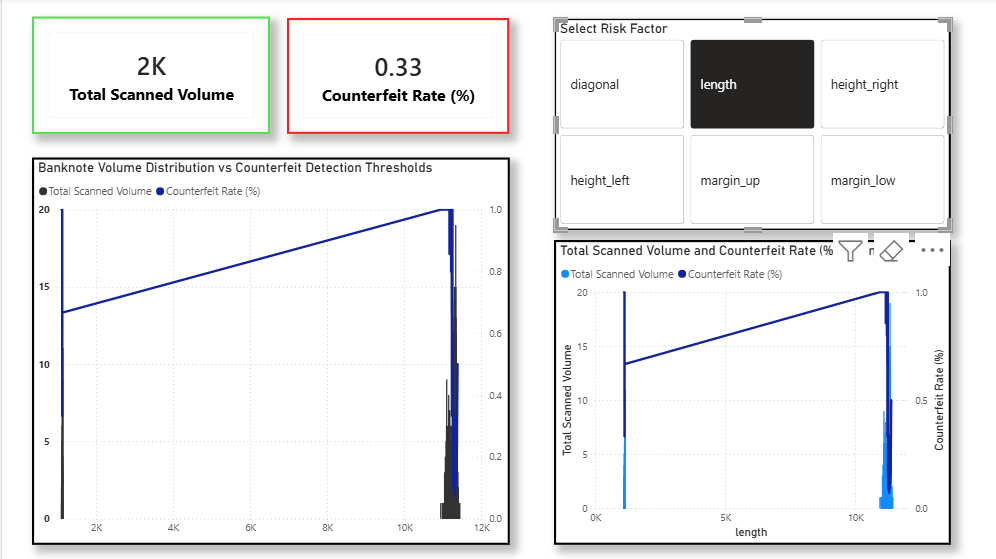

What the dashboard file says about the page in this screenshot:
{"tool":"powerbi","page":{"name":"Page 1","canvas":[1280,720],"ordinal":0},"visuals":[{"type":"lineClusteredColumnComboChart","title":"Banknote Volume Distribution vs Counterfeit Detection Thresholds","fields":{"Y":["Dim_Status.Total Scanned Volume"],"Y2":["Dim_Status.Counterfeit Rate (%)"],"Category":["Fact_Scanned_Bills.length (bins)"]},"box":[38,202,602,488],"z":0},{"type":"cardVisual","fields":{"Data":["Dim_Status.Total Scanned Volume"]},"box":[38,24,300,148],"z":1000},{"type":"cardVisual","fields":{"Data":["Dim_Status.Counterfeit Rate (%)"]},"box":[360,26,280,146],"z":2000},{"type":"advancedSlicerVisual","fields":{"Values":["Select Risk Factor.Select Risk Factor"]},"box":[696,26,500,268],"z":3000},{"type":"lineClusteredColumnComboChart","fields":{"Category":["Fact_Scanned_Bills.margin_low"],"Y":["Dim_Status.Total Scanned Volume"],"Y2":["Dim_Status.Counterfeit Rate (%)"]},"box":[696,306,500,384],"z":4000}]}

Visuals, with their boxes in screenshot pixels (x1, y1, x2, y2), scaled from the page's 1280x720 canvas onto the 996x559 screenshot:
"Banknote Volume Distribution vs Counterfeit Detection Thresholds" lineClusteredColumnComboChart: 30:157:498:536
cardVisual - Dim_Status.Total Scanned Volume: 30:19:263:134
cardVisual - Dim_Status.Counterfeit Rate (%): 280:20:498:134
advancedSlicerVisual - Select Risk Factor.Select Risk Factor: 542:20:931:228
lineClusteredColumnComboChart - Fact_Scanned_Bills.margin_low x Dim_Status.Total Scanned Volume: 542:238:931:536
